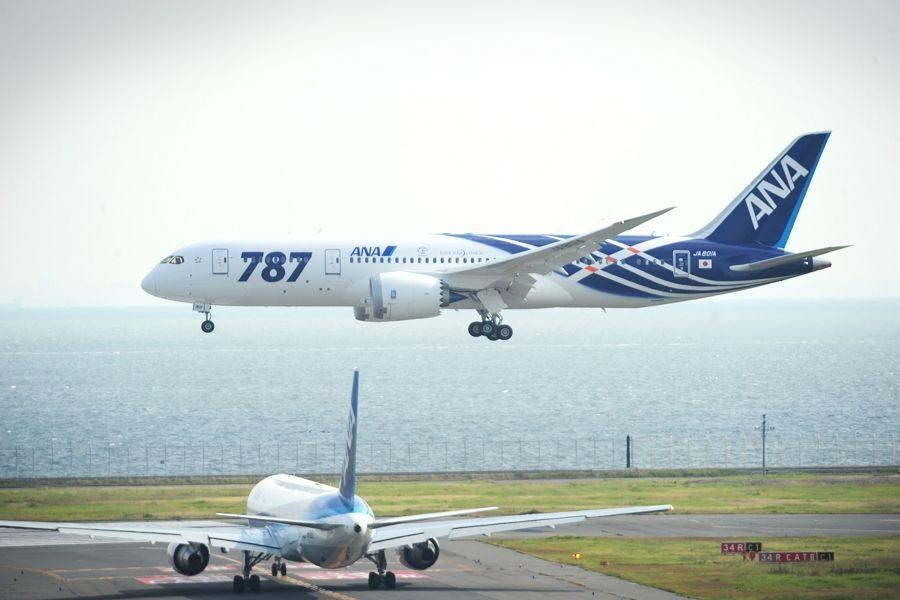airplane: (142, 132, 869, 358), (1, 366, 676, 588)
